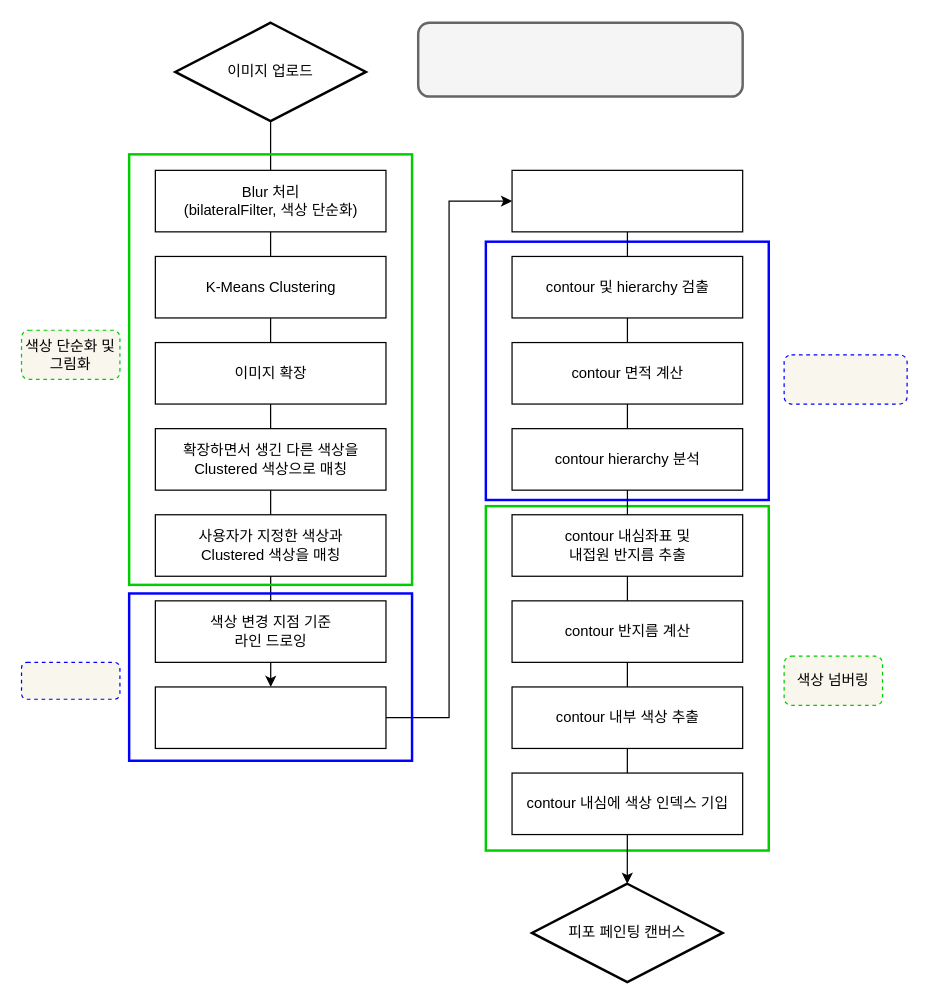
Some shapes in this 929 by 1004 pixel diagram are drawn without their labels. Each missing label, with the centre of its shape:
contour 및 hierarchy 분석: (845,379)
라인 드로잉: (70,680)
색상 인덱싱 및 레이블 추출: (627,200)
이미지 바깥 가장자리 드로잉: (270,717)
피포 페인팅 캔버스 자동 제작 시스템 SW Flow Architecture: (579,59)
